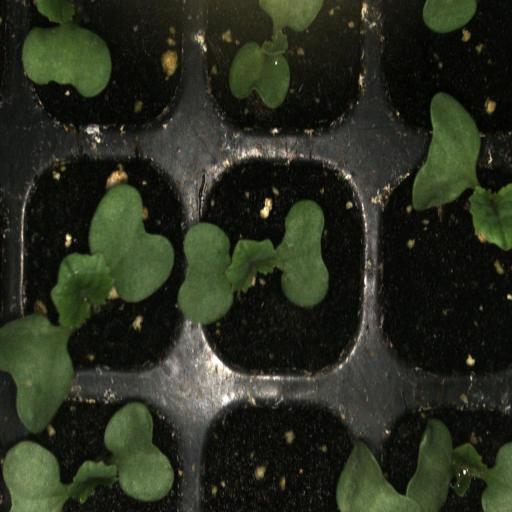Folha: (412, 92, 512, 251), (21, 0, 112, 98), (423, 0, 477, 33)
Germinacao: (12, 138, 194, 391), (197, 144, 372, 392), (372, 145, 512, 394), (198, 0, 374, 143), (12, 394, 194, 506)
